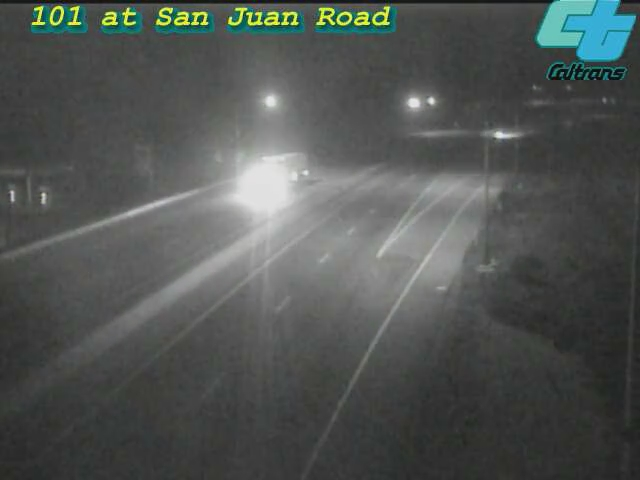vehicle: (235, 136, 315, 216), (475, 109, 525, 159)
